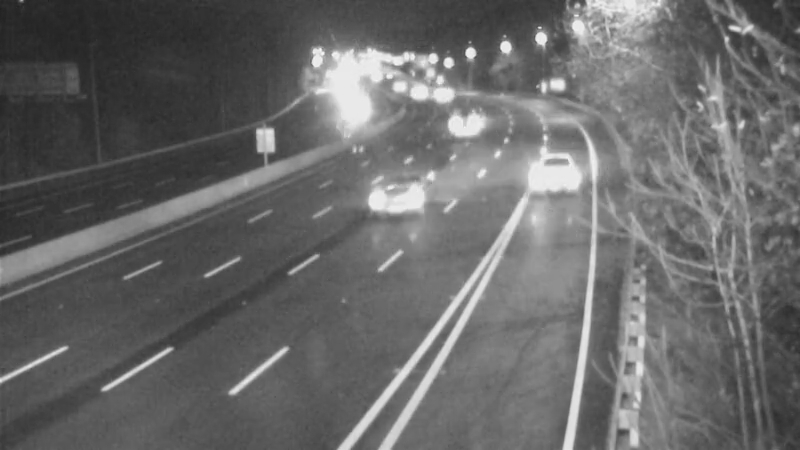vehicle: (511, 139, 591, 219), (365, 158, 445, 238), (372, 60, 422, 110), (394, 67, 444, 117), (420, 68, 470, 118), (434, 96, 484, 146)
